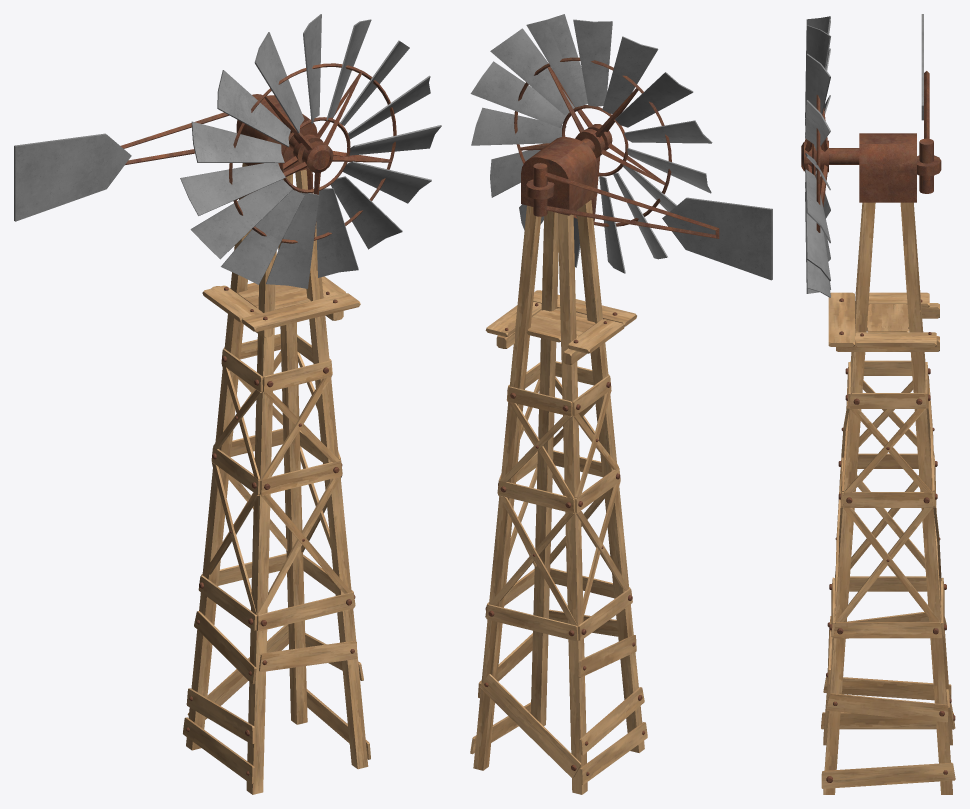
The model's file is Windmill.glb.
3 views of the same model, side by side, from view 1: azimuth 30°, elevation 25°; view 2: azimuth 150°, elevation 25°; view 3: azimuth 270°, elevation 25° (orthographic). The views are drawn at different scales.
Visible parts, largest first — view 1: Windmill, Windmill_Blades, Windmill_Paddle; view 2: Windmill, Windmill_Blades, Windmill_Paddle; view 3: Windmill, Windmill_Blades, Windmill_Paddle.
Boxes of the visible parts, bbox=[...] form: Windmill: bbox=[183, 95, 370, 794]; Windmill_Blades: bbox=[180, 14, 441, 288]; Windmill_Paddle: bbox=[14, 94, 262, 221]; Windmill: bbox=[470, 136, 647, 794]; Windmill_Blades: bbox=[470, 14, 712, 273]; Windmill_Paddle: bbox=[526, 163, 772, 280]; Windmill: bbox=[821, 133, 955, 794]; Windmill_Blades: bbox=[801, 16, 859, 297]; Windmill_Paddle: bbox=[917, 14, 941, 193].
Bounding box in the file's own units: 7.73 × 15.26 × 2.89.
Materials: 4 (4 with a texture image).
